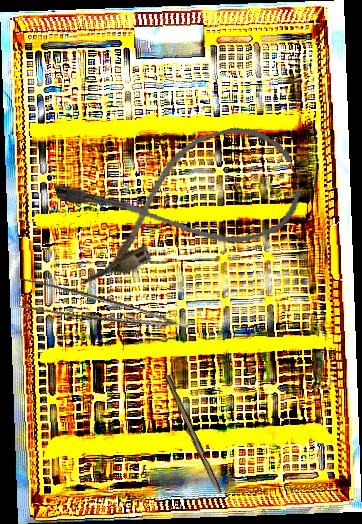Cannula: (52, 114, 309, 288)
Scalpel Handle: (161, 374, 224, 495)
Tissue Forceps: (10, 272, 190, 356)
